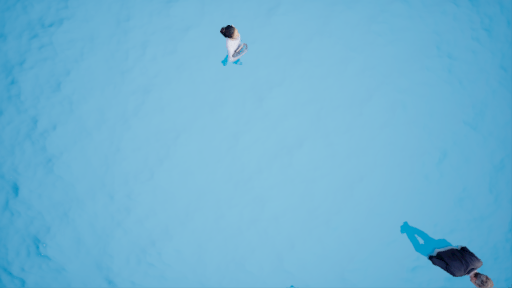person: (396, 219, 498, 288), (213, 17, 254, 70)
